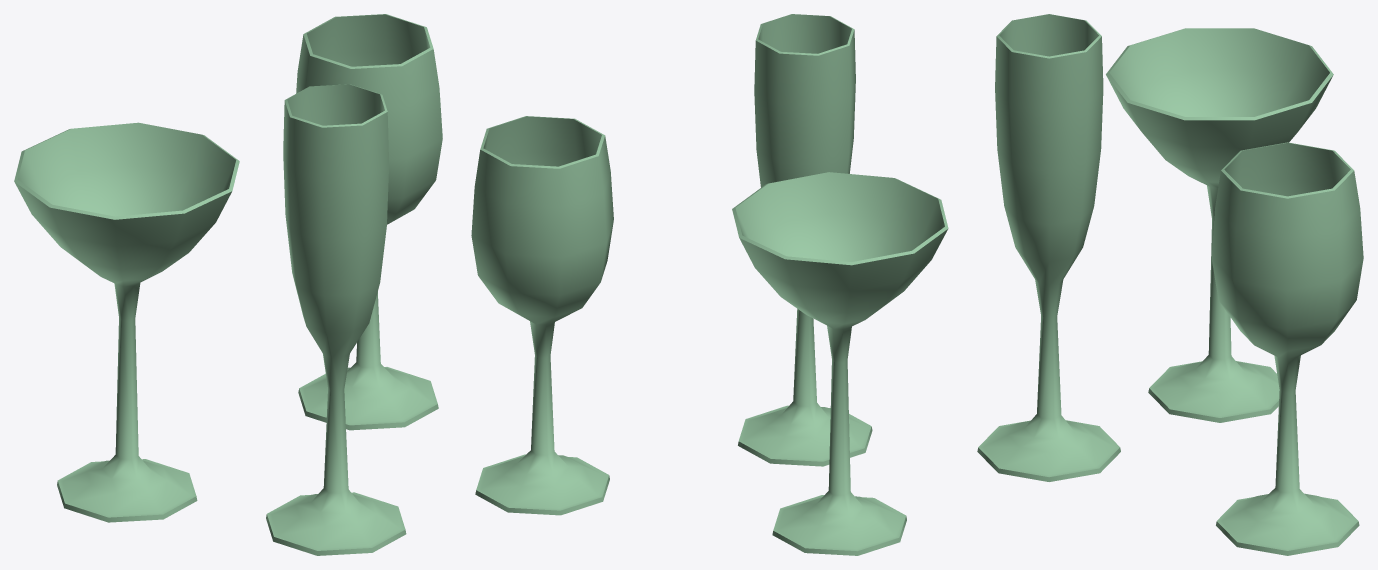
File: KQGDYJZH04.FBX
The picture shows the model from 3 angles, left to right: view 1: azimuth 30°, elevation 25°; view 2: azimuth 150°, elevation 25°; view 3: azimuth 270°, elevation 25°; orthographic projection. The views are drawn at different scales.
Visible parts, largest first — view 1: KQGDYJZH04; view 2: KQGDYJZH04; view 3: KQGDYJZH04.
Boxes of the visible parts, box(x1,y1,x2,y2) form: KQGDYJZH04: box(14, 14, 442, 555); KQGDYJZH04: box(471, 14, 948, 555); KQGDYJZH04: box(977, 14, 1363, 555).
Size of the model in its own units: 13.89 by 10.75 by 12.78.
